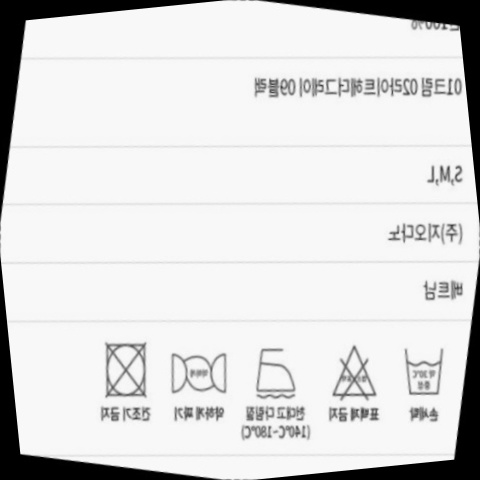30C: (384, 329, 461, 409)
DN_tumble_dry: (82, 322, 169, 415)
iron: (152, 331, 245, 411), (235, 327, 316, 413)
non_chlorine_bleach: (309, 326, 395, 416)
